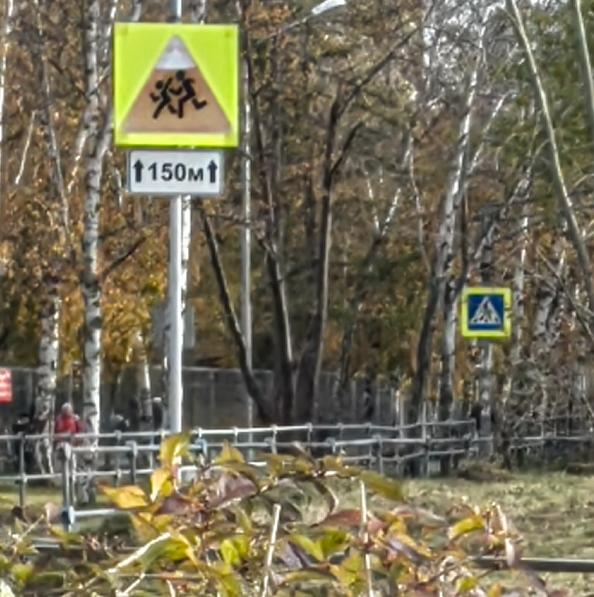obstructed_road_sign: (461, 287, 511, 337)
road_sign: (115, 25, 237, 146), (128, 152, 221, 192)
